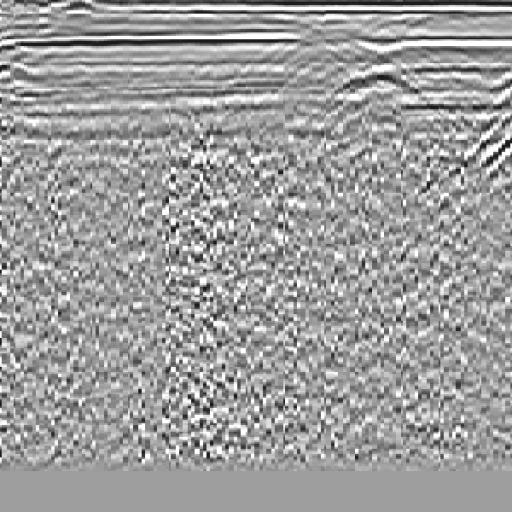non-metallic: (283, 52, 492, 246)
